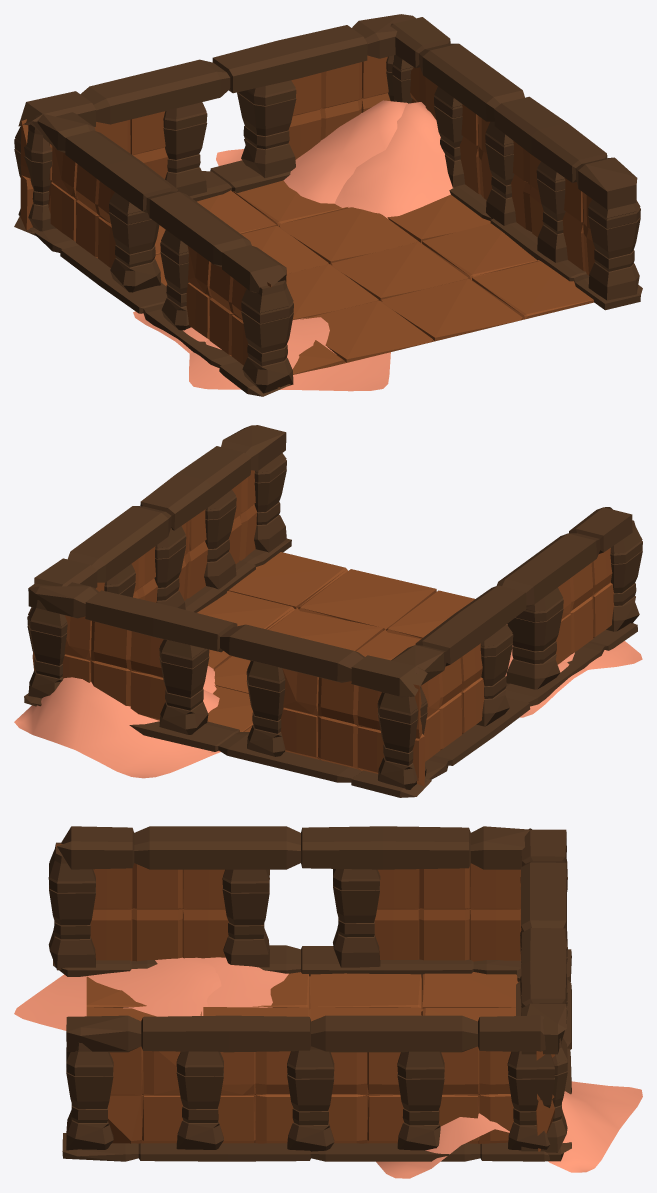
Rendered from TopLRoom.fbx.
3 views of the same model, one above another, from view 1: azimuth 30°, elevation 25°; view 2: azimuth 150°, elevation 25°; view 3: azimuth 270°, elevation 25° (orthographic). The views are drawn at different scales.
Parts seen in each view (by area): view 1: floor.001, TopStone.005, TopStone.003, TopStone.006, Sand.003, WallMain.003, Plane.003, WallMain.005, Plane.001, WallMain.007, wall.006, Pillar.001 (+14 smaller); view 2: floor.001, TopStone.005, TopStone.003, TopStone.006, Plane.003, WallMain.004, WallMain.005, wall.005, WallMain.003, WallMain.007, wall.006, WallMain.006 (+13 smaller); view 3: WallMain.003, TopStone.006, TopStone.003, WallMain.007, floor.001, WallMain.006, TopStone.005, Plane.001, wall.003, wall.006, Plane.003, Pillar.001 (+12 smaller).
Part boxes in pixels (<box>): floor.001: <box>154,180,593,374</box>; TopStone.005: <box>18,14,415,135</box>; TopStone.003: <box>390,17,637,209</box>; TopStone.006: <box>35,112,286,292</box>; Sand.003: <box>334,102,452,218</box>; WallMain.003: <box>410,67,594,275</box>; Plane.003: <box>216,100,407,203</box>; WallMain.005: <box>288,55,390,159</box>; Plane.001: <box>189,317,390,391</box>; WallMain.007: <box>48,143,115,267</box>; wall.006: <box>30,227,290,396</box>; Pillar.001: <box>241,280,293,393</box>; floor.001: <box>197,552,474,731</box>; TopStone.005: <box>28,582,427,697</box>; TopStone.003: <box>34,425,286,588</box>; TopStone.006: <box>391,507,632,685</box>; Plane.003: <box>14,677,220,778</box>; WallMain.004: <box>280,668,425,786</box>; WallMain.005: <box>32,615,165,720</box>; wall.005: <box>24,693,431,797</box>; WallMain.003: <box>95,470,257,602</box>; WallMain.007: <box>421,643,484,761</box>; wall.006: <box>417,623,637,783</box>; WallMain.006: <box>556,548,614,664</box>; WallMain.003: <box>108,1046,513,1143</box>; TopStone.006: <box>57,826,530,869</box>; TopStone.003: <box>66,1015,545,1052</box>; WallMain.007: <box>374,863,521,961</box>; floor.001: <box>86,972,518,1021</box>; WallMain.006: <box>56,844,228,961</box>; TopStone.005: <box>521,828,566,1054</box>; Plane.001: <box>14,957,221,1030</box>; wall.003: <box>62,1133,549,1161</box>; wall.006: <box>53,945,521,976</box>; Plane.003: <box>548,1081,642,1172</box>; Pillar.001: <box>48,842,95,970</box>.
Size of the model in its own units: 4906 by 1456 by 5698.
